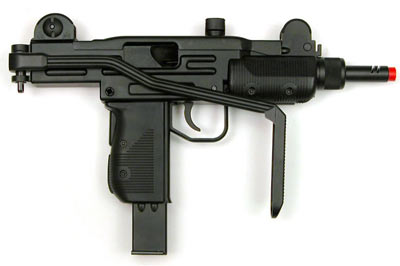rifle: (8, 10, 396, 256)
